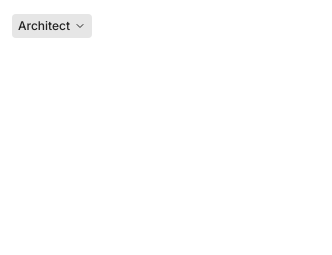
Test: ArchetypeSelector › opens dropdown on click
This screenshot has width=332, height=255.
Click the button with test id "archetype-selector": (52, 26) [12, 14, 92, 38]
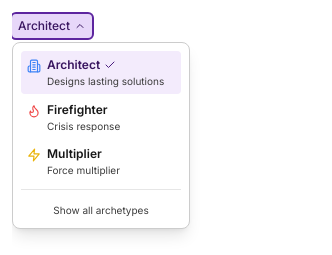
Expected: the list is shown, [12, 42, 190, 228]
